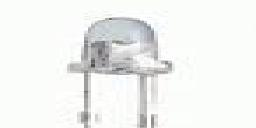LED: (68, 12, 176, 128)
